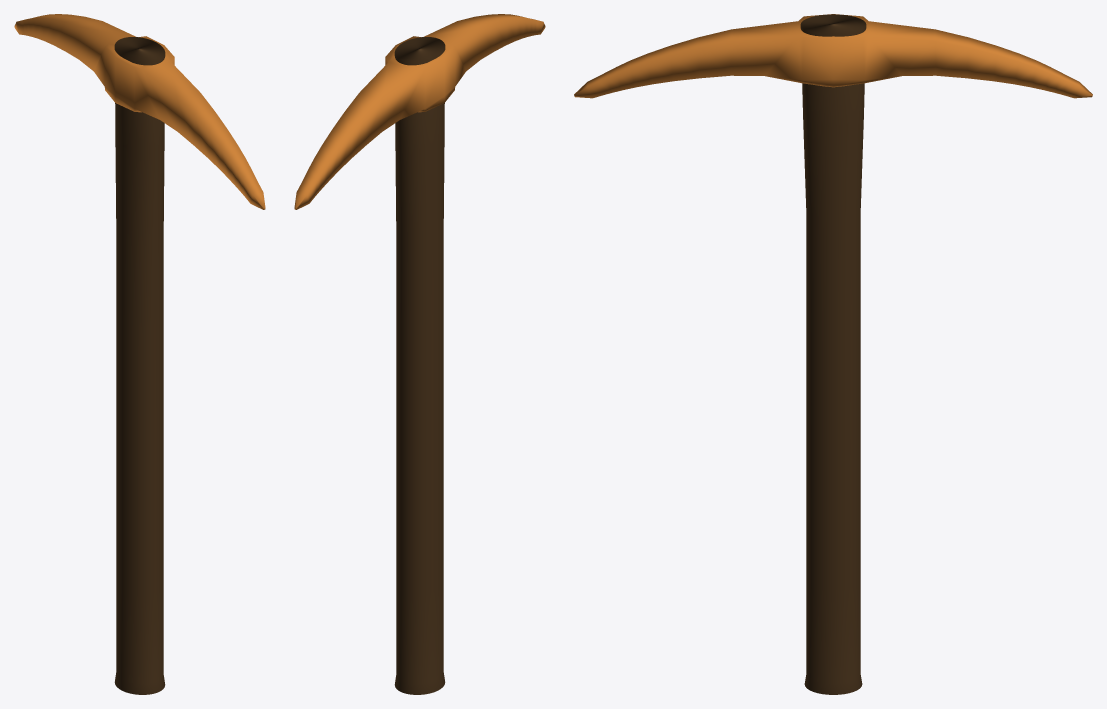
Rendered from cpick.glb.
3 renders of one model, left to right at view 1: azimuth 30°, elevation 25°; view 2: azimuth 150°, elevation 25°; view 3: azimuth 270°, elevation 25°, orthographic. The views are drawn at different scales.
Parts seen in each view (by area): view 1: Cylinder, Cube; view 2: Cylinder, Cube; view 3: Cylinder, Cube.
Part boxes in pixels (left/top/right/bottom): Cylinder: left=114, top=37, right=165, bottom=694; Cube: left=14, top=14, right=265, bottom=209; Cylinder: left=394, top=37, right=445, bottom=694; Cube: left=294, top=14, right=545, bottom=209; Cylinder: left=800, top=14, right=866, bottom=694; Cube: left=574, top=14, right=1092, bottom=98.
Bounding box in the file's own units: 0.2572 × 3.17 × 2.26.
